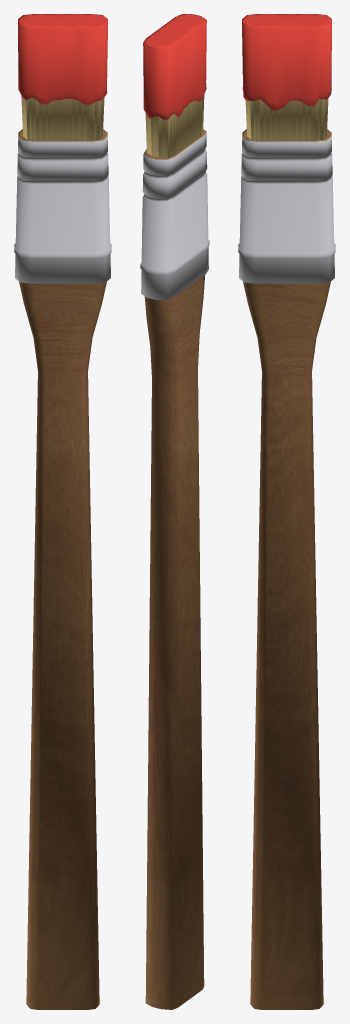
The model's file is brocha Pintura.fbx.
3 renders of one model, left to right at view 1: azimuth 90°, elevation 25°; view 2: azimuth 150°, elevation 25°; view 3: azimuth 270°, elevation 25°, orthographic.
Parts seen in each view (by area): view 1: Cube; view 2: Cube; view 3: Cube.
Part boxes in pixels (<box>): Cube: <box>14,14,111,1009</box>; Cube: <box>140,14,209,1009</box>; Cube: <box>238,14,335,1009</box>.
Bounding box in the file's own units: 60.64 × 1707 × 153.
